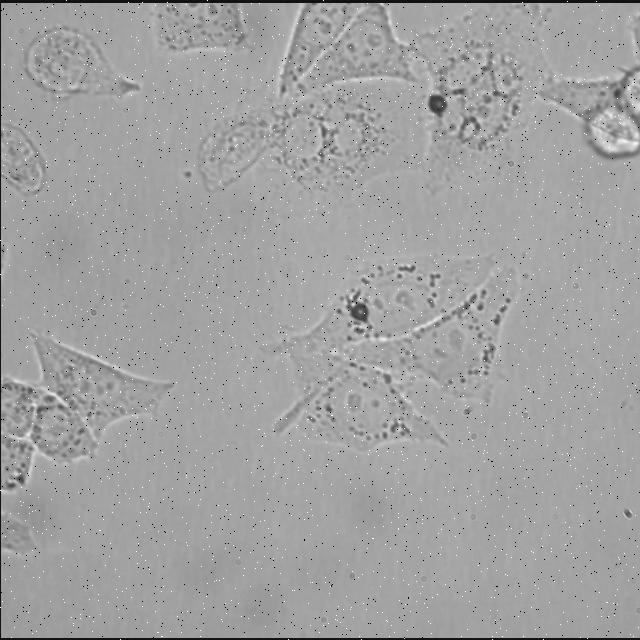microbeads: (426, 93, 448, 115), (348, 302, 368, 324)
